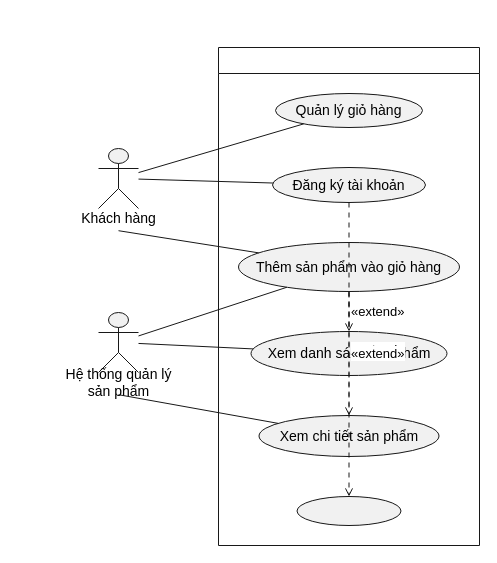
This 497x563 diagram has some shape labels left out. Here are the shapes that lost their labels. From the top down, the box of each, then its label:
(218, 46, 480, 546): Phân hệ Mua sắm & Tài khoản
(296, 496, 401, 526): Đăng nhập
